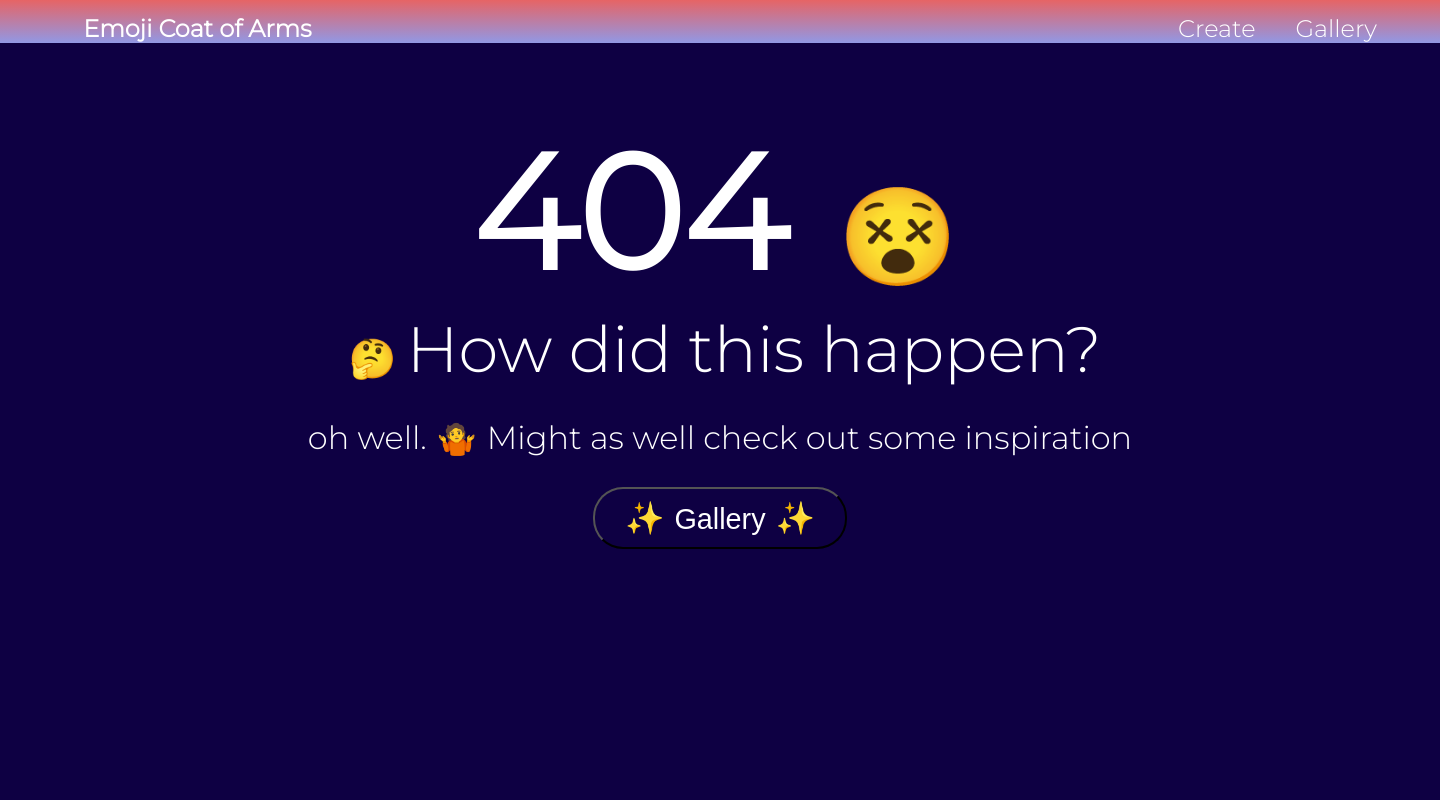
Scenario: 404 Not Found › Should show a 404 page
Expected: the heading "404 😵" is shown, [472, 115, 958, 310]
Step 1. Click the button "✨Gallery✨" → click(720, 518), box [593, 487, 847, 549]
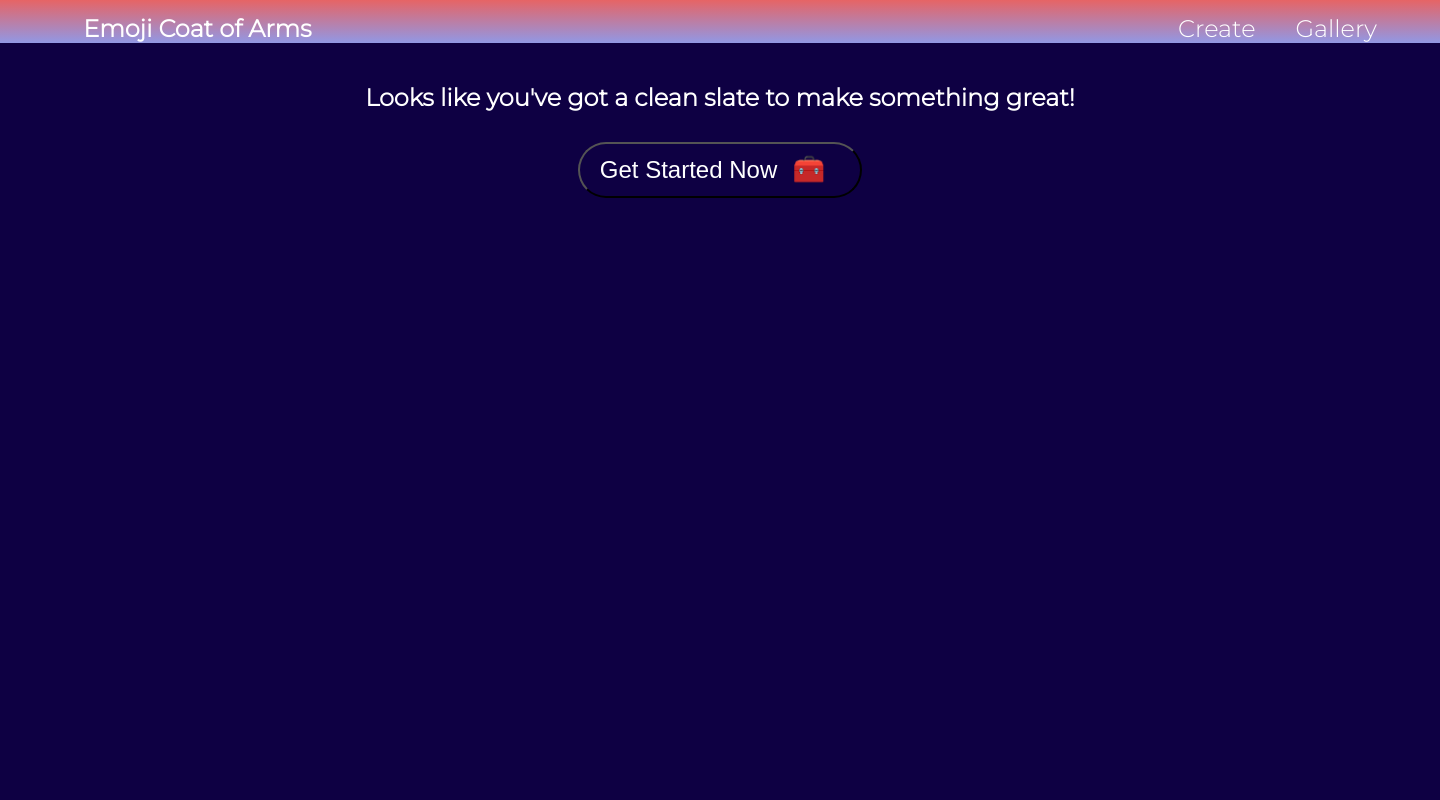
Result: the button with class "gallery-start-btn" is shown at [578, 142, 862, 198]
